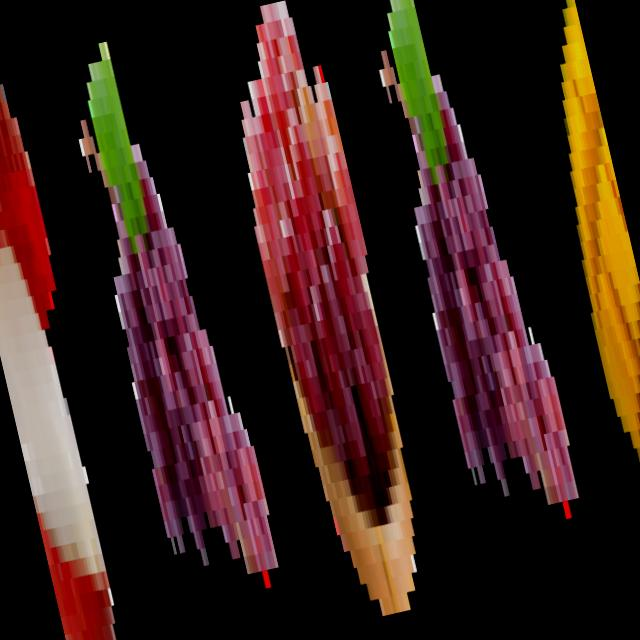grape: (199, 0, 456, 625), (50, 39, 296, 640), (344, 0, 599, 574)
mango: (503, 0, 640, 520)
